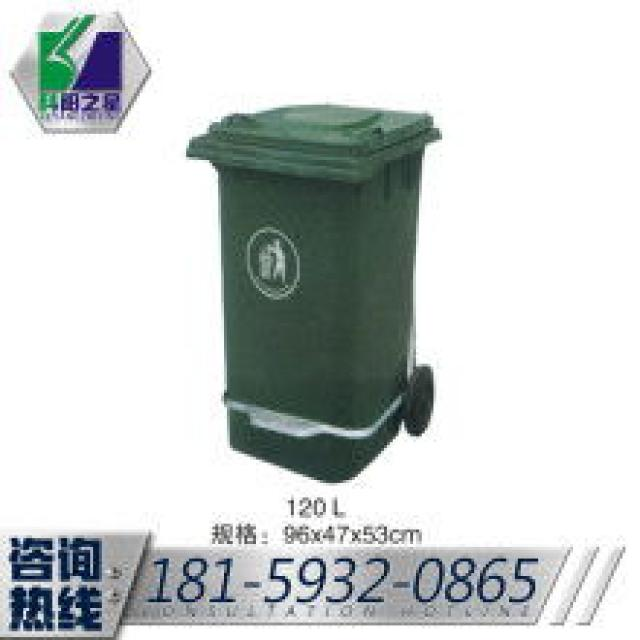garbage_bin: (183, 102, 442, 480)
